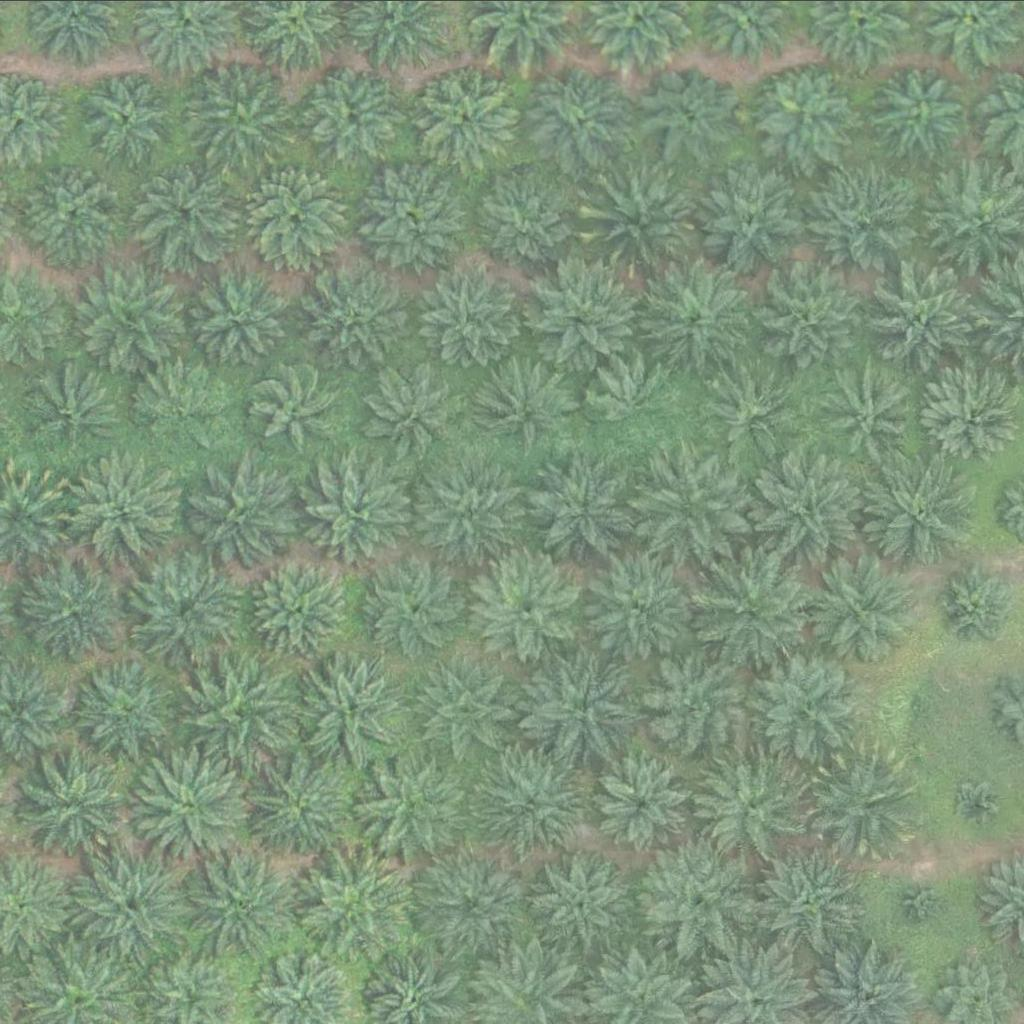Kelapa_Sawit: (182, 845, 296, 958), (358, 747, 472, 860), (18, 152, 132, 265), (182, 55, 296, 168), (853, 455, 967, 568), (584, 552, 698, 665), (694, 555, 808, 668), (413, 654, 527, 767), (523, 652, 637, 765), (478, 744, 592, 857), (75, 844, 188, 957), (136, 750, 249, 863), (245, 748, 358, 861), (66, 454, 179, 567), (183, 459, 296, 572), (305, 455, 418, 568), (413, 257, 526, 370), (693, 160, 806, 273), (803, 164, 916, 277), (527, 255, 640, 368), (640, 264, 753, 377), (757, 258, 870, 371), (804, 550, 917, 663), (644, 648, 757, 761), (307, 845, 421, 957), (868, 259, 982, 371), (634, 452, 748, 564), (751, 450, 865, 562), (805, 747, 918, 859), (416, 849, 529, 961), (16, 748, 129, 860), (69, 658, 182, 770), (185, 659, 298, 771), (299, 651, 412, 763), (132, 556, 245, 668), (356, 552, 469, 664), (413, 453, 526, 565), (76, 255, 189, 367), (184, 257, 297, 369), (133, 153, 246, 265), (357, 154, 470, 266), (473, 163, 586, 275), (588, 164, 701, 276), (528, 454, 641, 566), (471, 554, 584, 666), (751, 644, 864, 756), (695, 749, 808, 861), (641, 849, 754, 961), (748, 845, 861, 957), (24, 562, 125, 662), (247, 559, 348, 659), (308, 261, 409, 361), (244, 163, 345, 263), (301, 61, 402, 161), (416, 68, 517, 168), (528, 71, 629, 171), (644, 62, 745, 162), (754, 61, 855, 161), (868, 64, 969, 164), (474, 356, 575, 456), (592, 752, 693, 852), (533, 850, 634, 950), (78, 63, 178, 163), (701, 364, 801, 464), (820, 360, 920, 460), (33, 364, 121, 452), (591, 359, 679, 447), (137, 361, 225, 448), (251, 366, 339, 453), (367, 365, 455, 452), (895, 873, 946, 923), (951, 779, 1002, 829), (888, 682, 938, 732)
